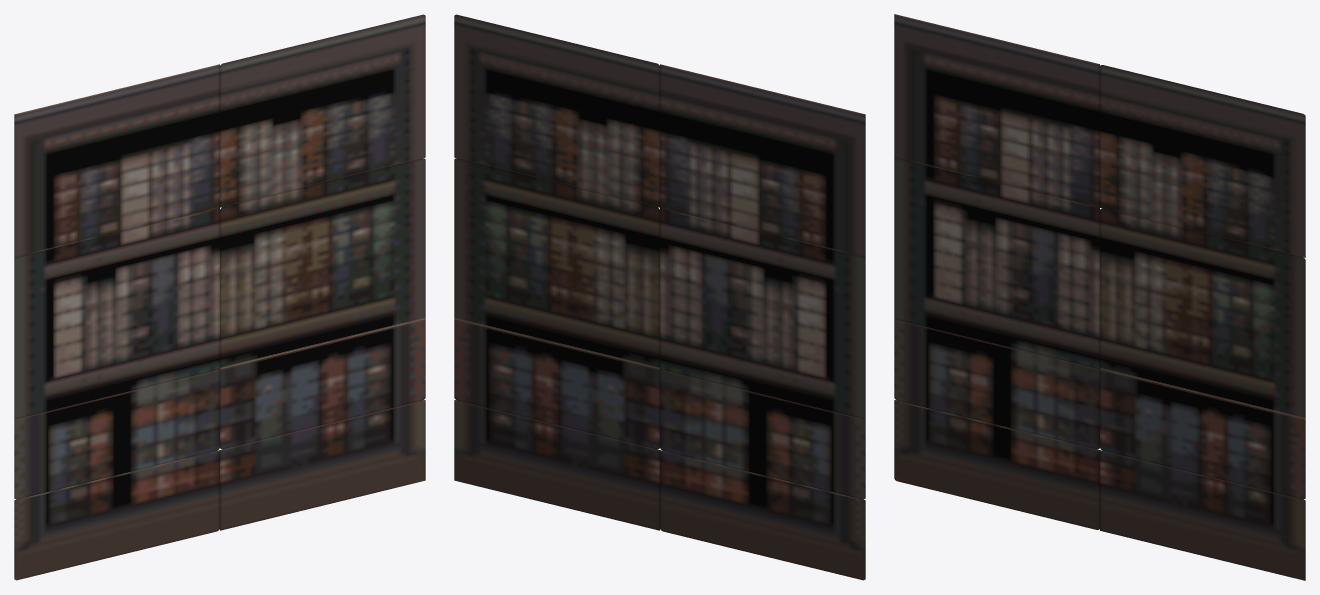
3 views of the same model, side by side, from view 1: azimuth 30°, elevation 25°; view 2: azimuth 150°, elevation 25°; view 3: azimuth 330°, elevation 25° (orthographic).
Visible parts, largest first — view 1: T1L1M008_9; view 2: T1L1M008_9; view 3: T1L1M008_9.
Part boxes in pixels (x1,y1,x2,y2): T1L1M008_9: (14, 14, 425, 580); T1L1M008_9: (454, 14, 865, 580); T1L1M008_9: (894, 14, 1305, 580).
Size of the model in its own units: 4 by 4.33 by 0.
